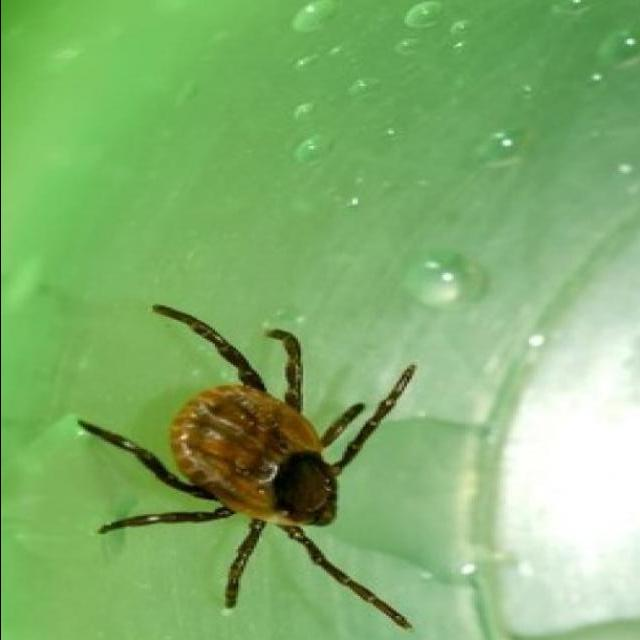Rhipicephalus Sanguineus-F: (79, 306, 416, 630)
